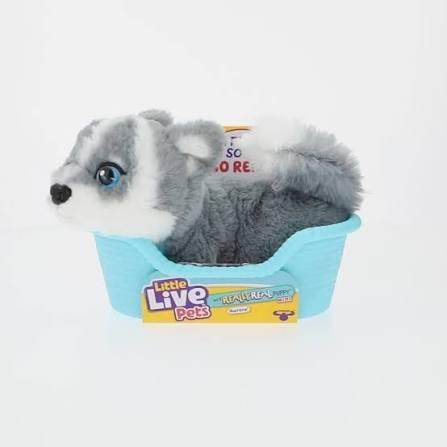non-dog: (44, 107, 365, 266)
